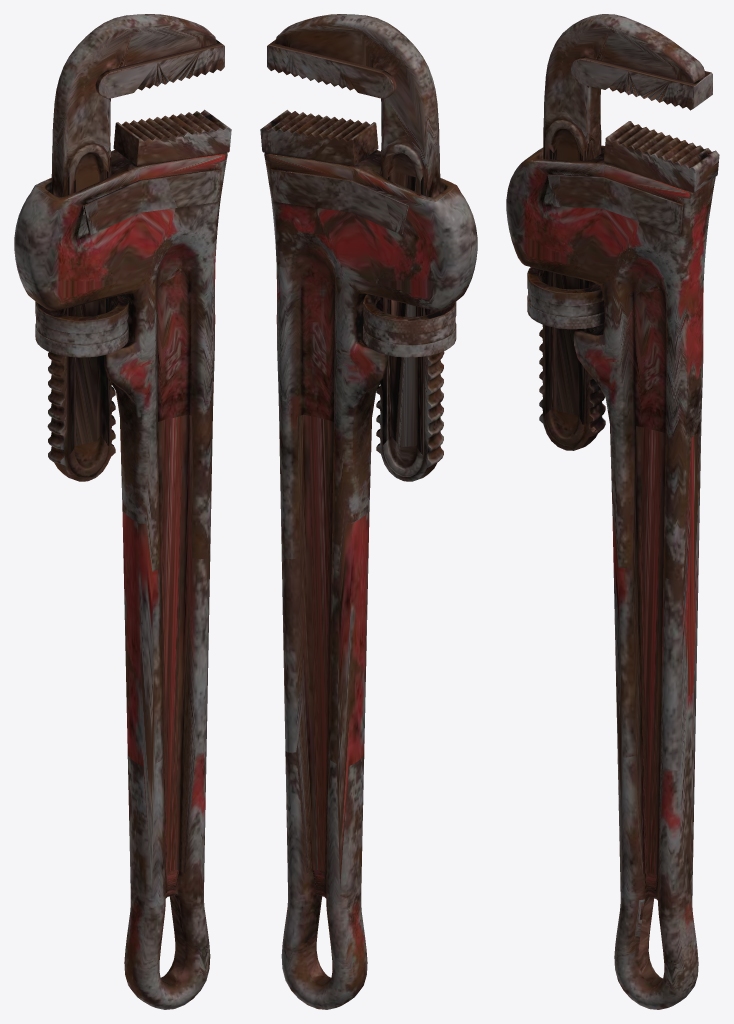
File: pipe-wrench.glb
The picture shows the model from 3 angles, left to right: view 1: azimuth 30°, elevation 25°; view 2: azimuth 150°, elevation 25°; view 3: azimuth 330°, elevation 25°; orthographic projection.
Visible parts, largest first — view 1: pipe_wrench; view 2: pipe_wrench; view 3: pipe_wrench.
Boxes of the visible parts, x1,y1,x2,y2 form: pipe_wrench: [14, 14, 231, 1009]; pipe_wrench: [260, 14, 477, 1009]; pipe_wrench: [506, 14, 719, 1009].
Bounding box in the file's own units: 0.084 × 0.4047 × 0.0343.
1 material, 1 textured.
